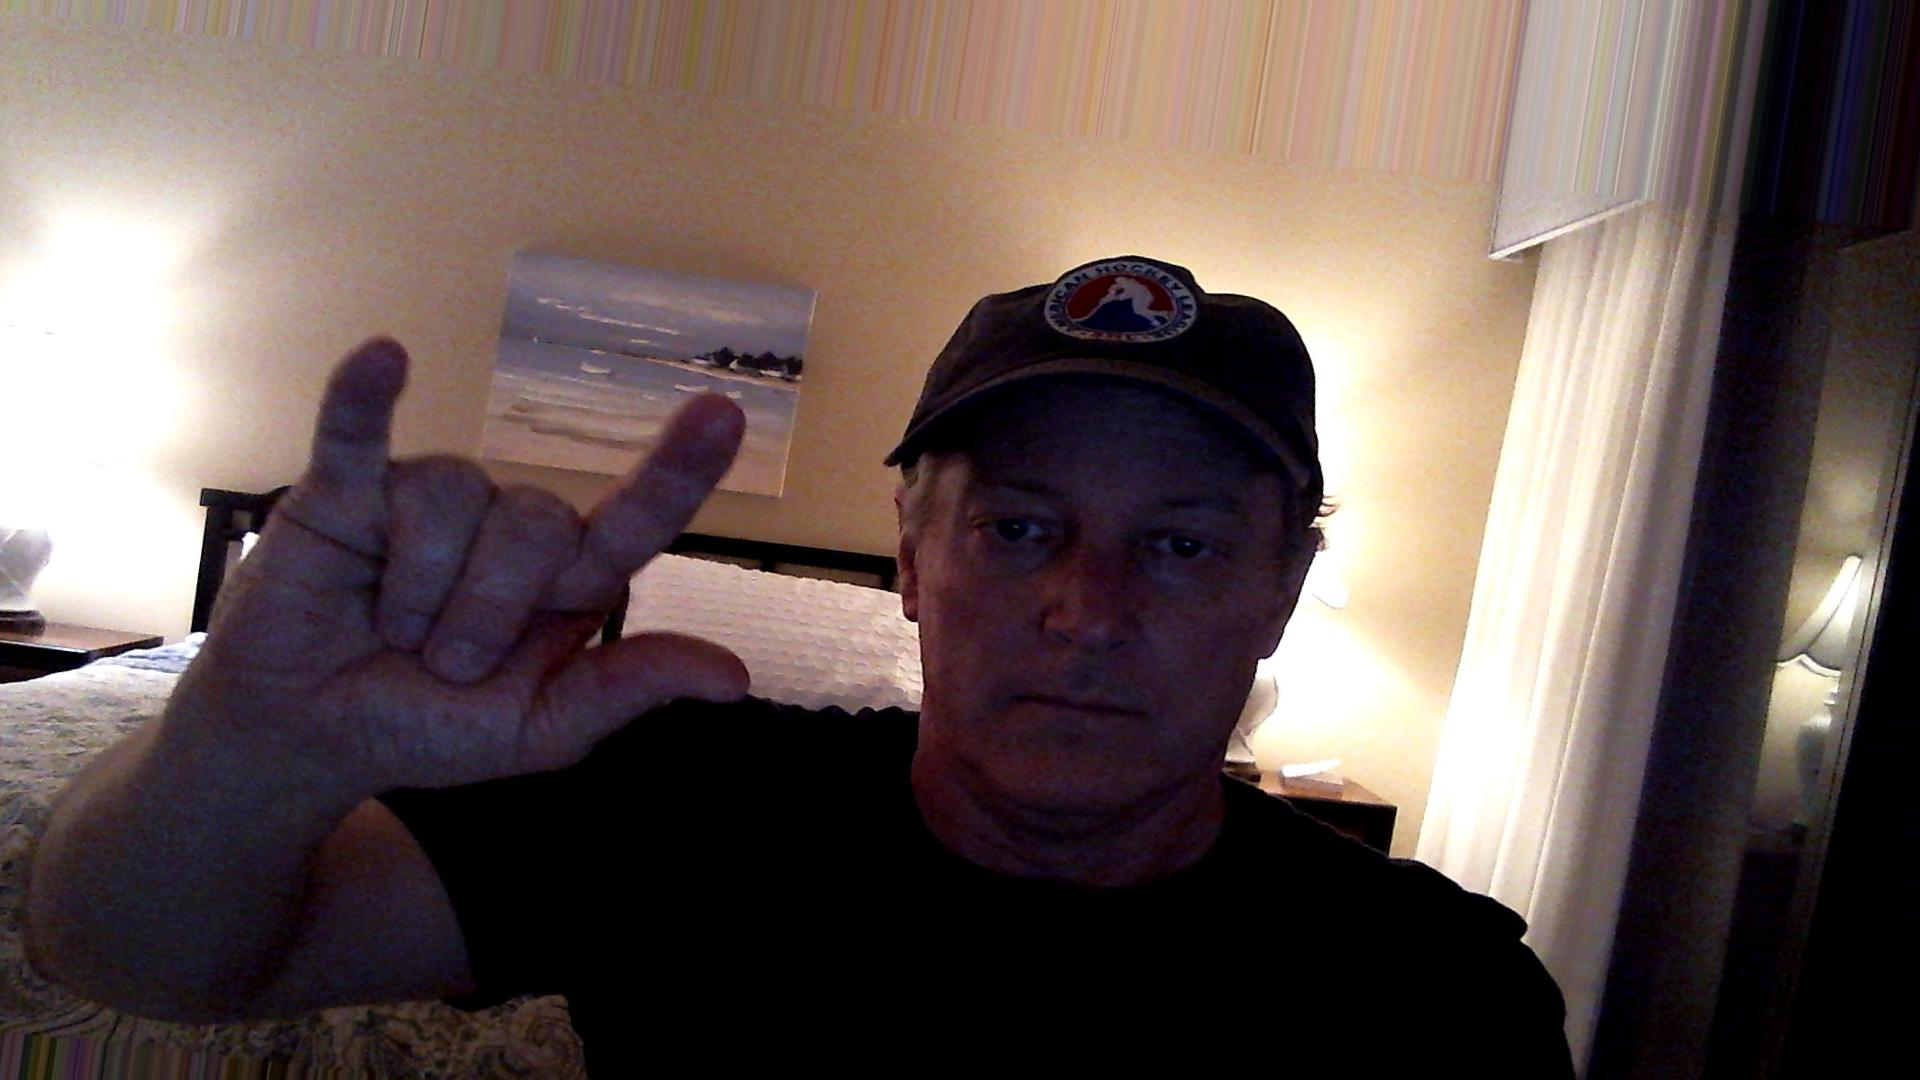I Love You: (199, 316, 791, 810)
